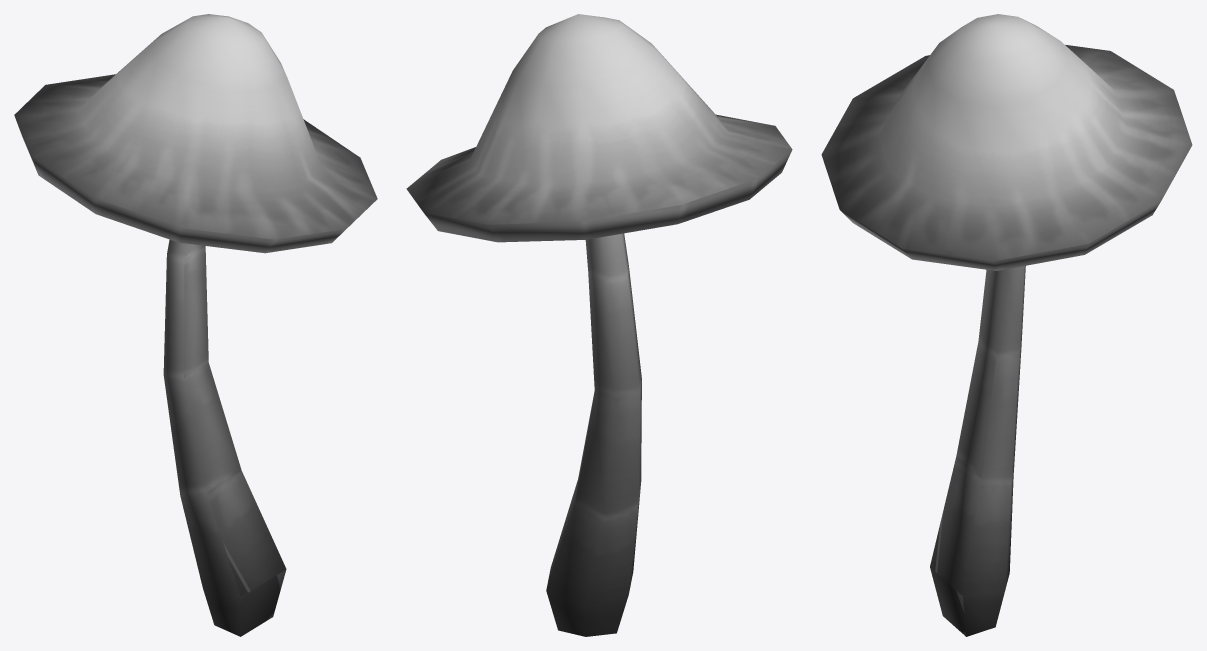
Rendered from Cave mushroom large Mobile.FBX.
3 views of the same model, side by side, from view 1: azimuth 30°, elevation 25°; view 2: azimuth 150°, elevation 25°; view 3: azimuth 270°, elevation 25° (orthographic). The views are drawn at different scales.
Bounding box in the file's own units: 2.85 × 5.15 × 2.9.
